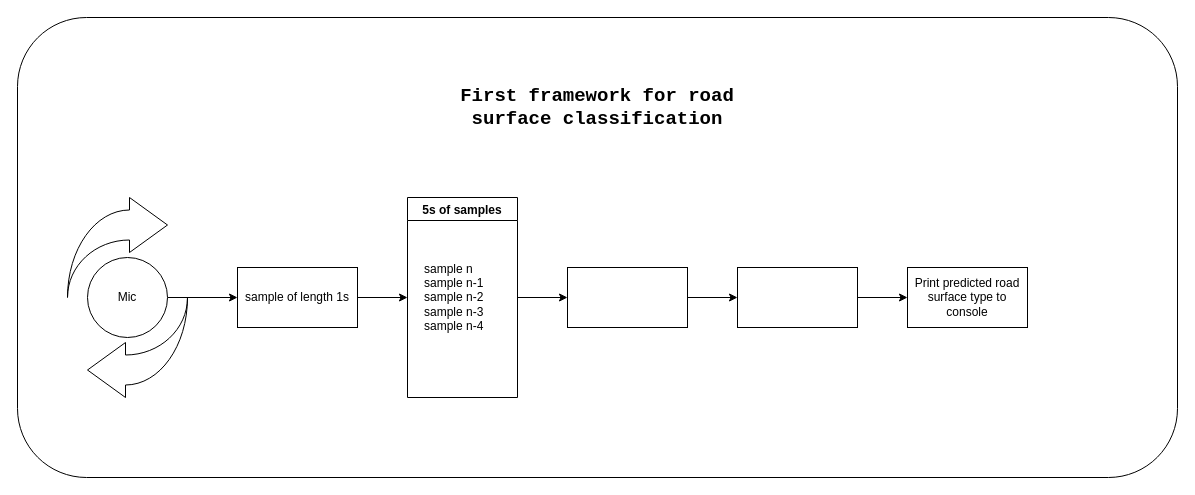
Image size: 1195x495. Some labels were removed from this diagram. The shapes that lost their labels are listed below. From the top down, each one's centre as x and y in pixels, then its label:
At [627,297]: "Preprocessing and feature extraction".
At [797,297]: "Knn classifier".
